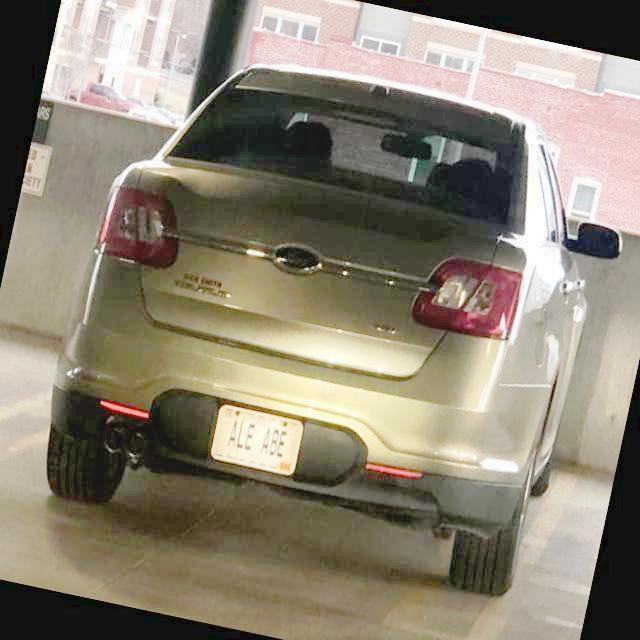license_plate: (214, 407, 305, 477)
